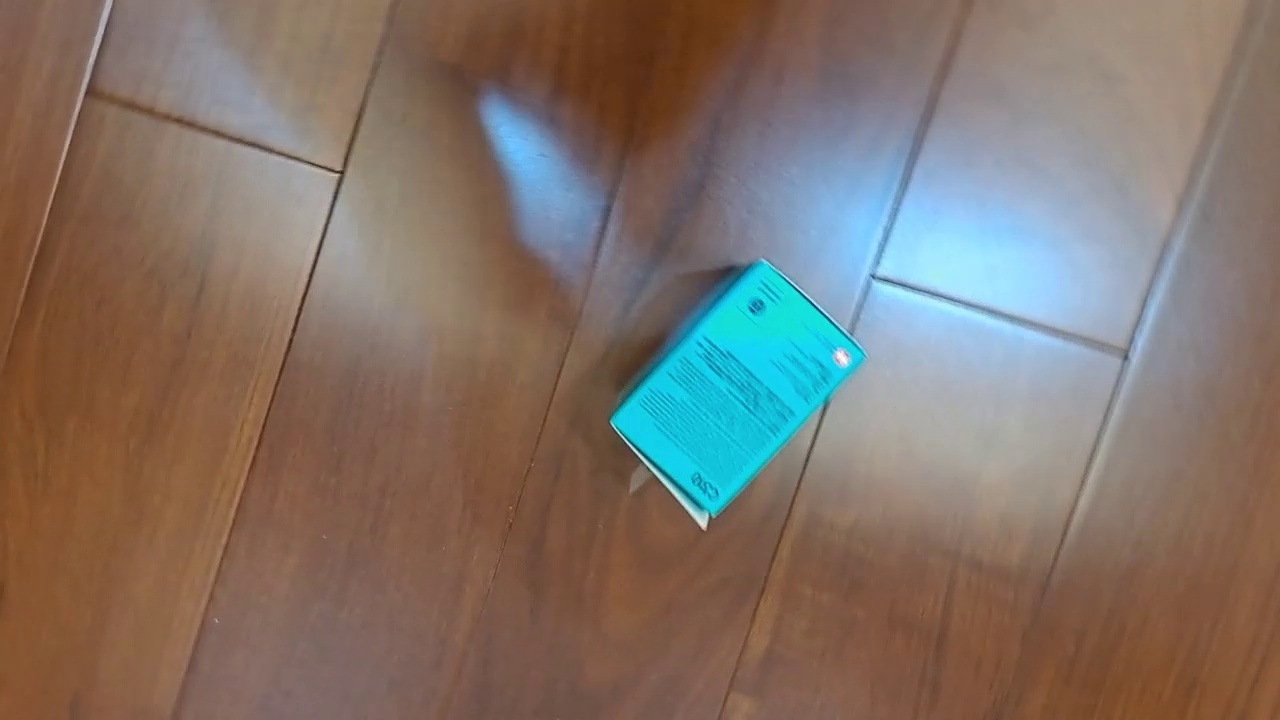webcam: (606, 255, 869, 535)
